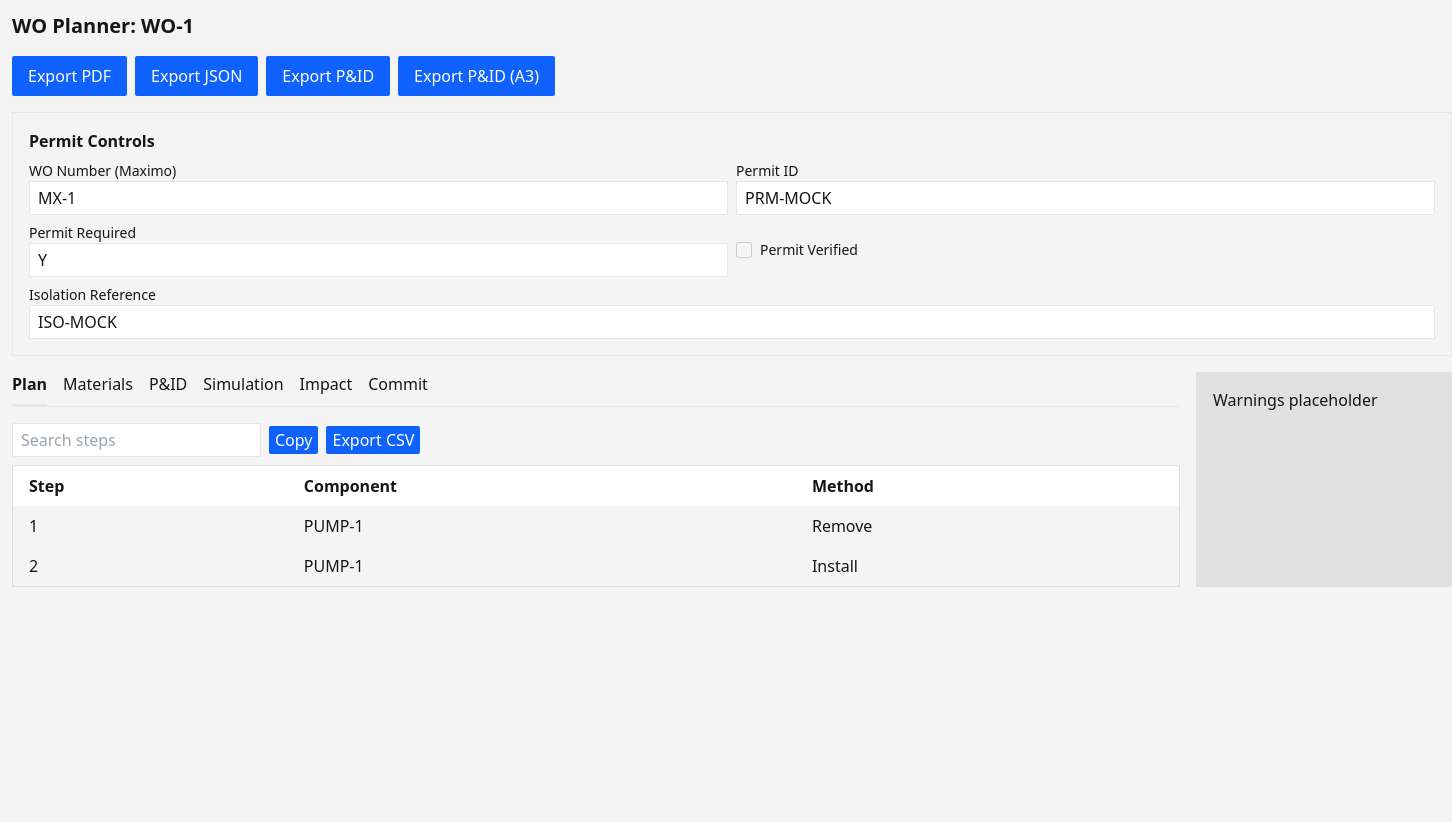
Scenario: renders material status chips
The width and height of the screenshot is (1452, 822).
Click the tab "Materials" at (98, 388), box [63,372,133,404]
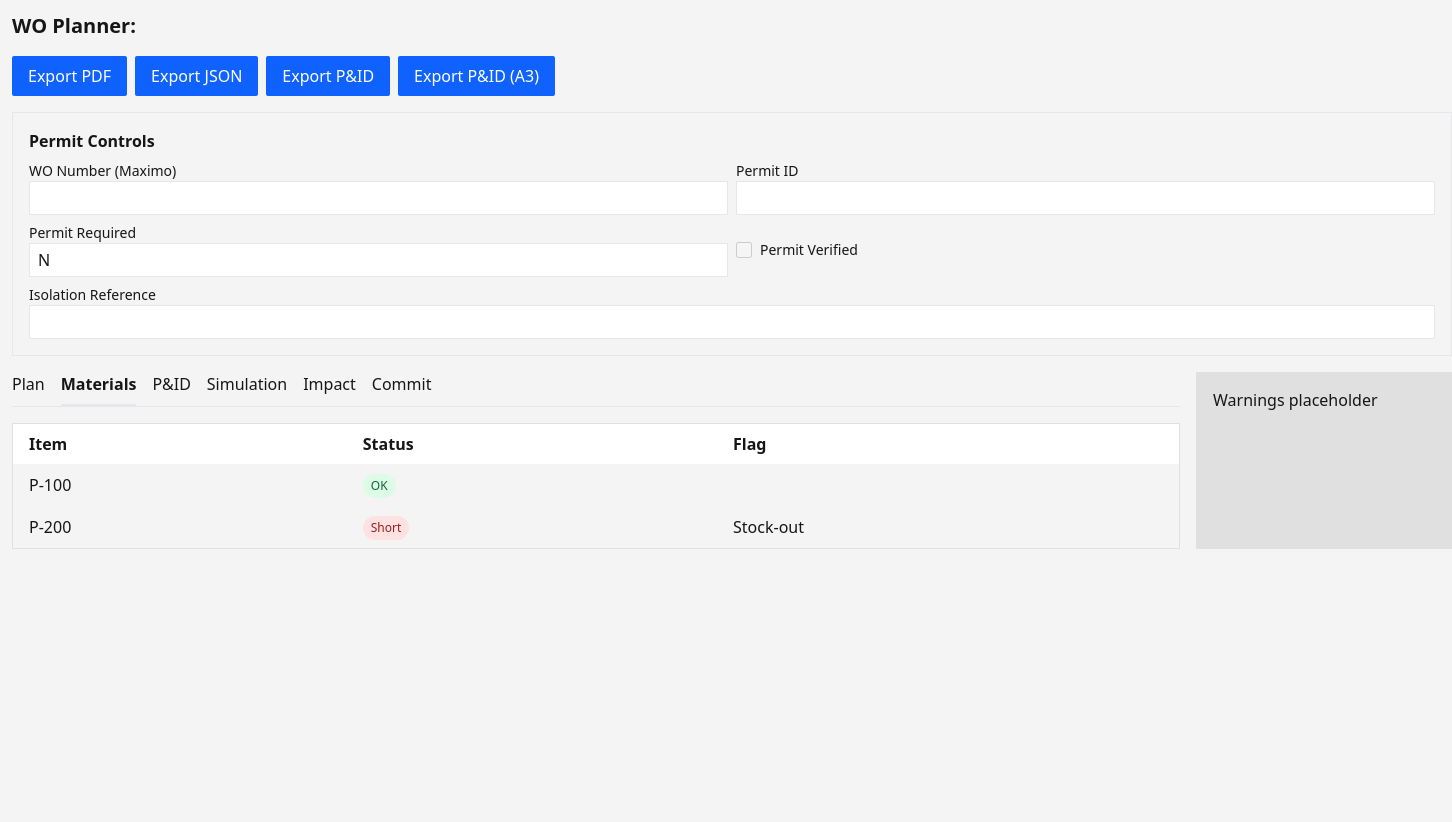
expect the text "P-200" is shown: met, box [12,506,347,548]
expect the text "OK" is shown: met, box [363,474,396,498]
expect the text "Short" is shown: met, box [363,516,409,540]
